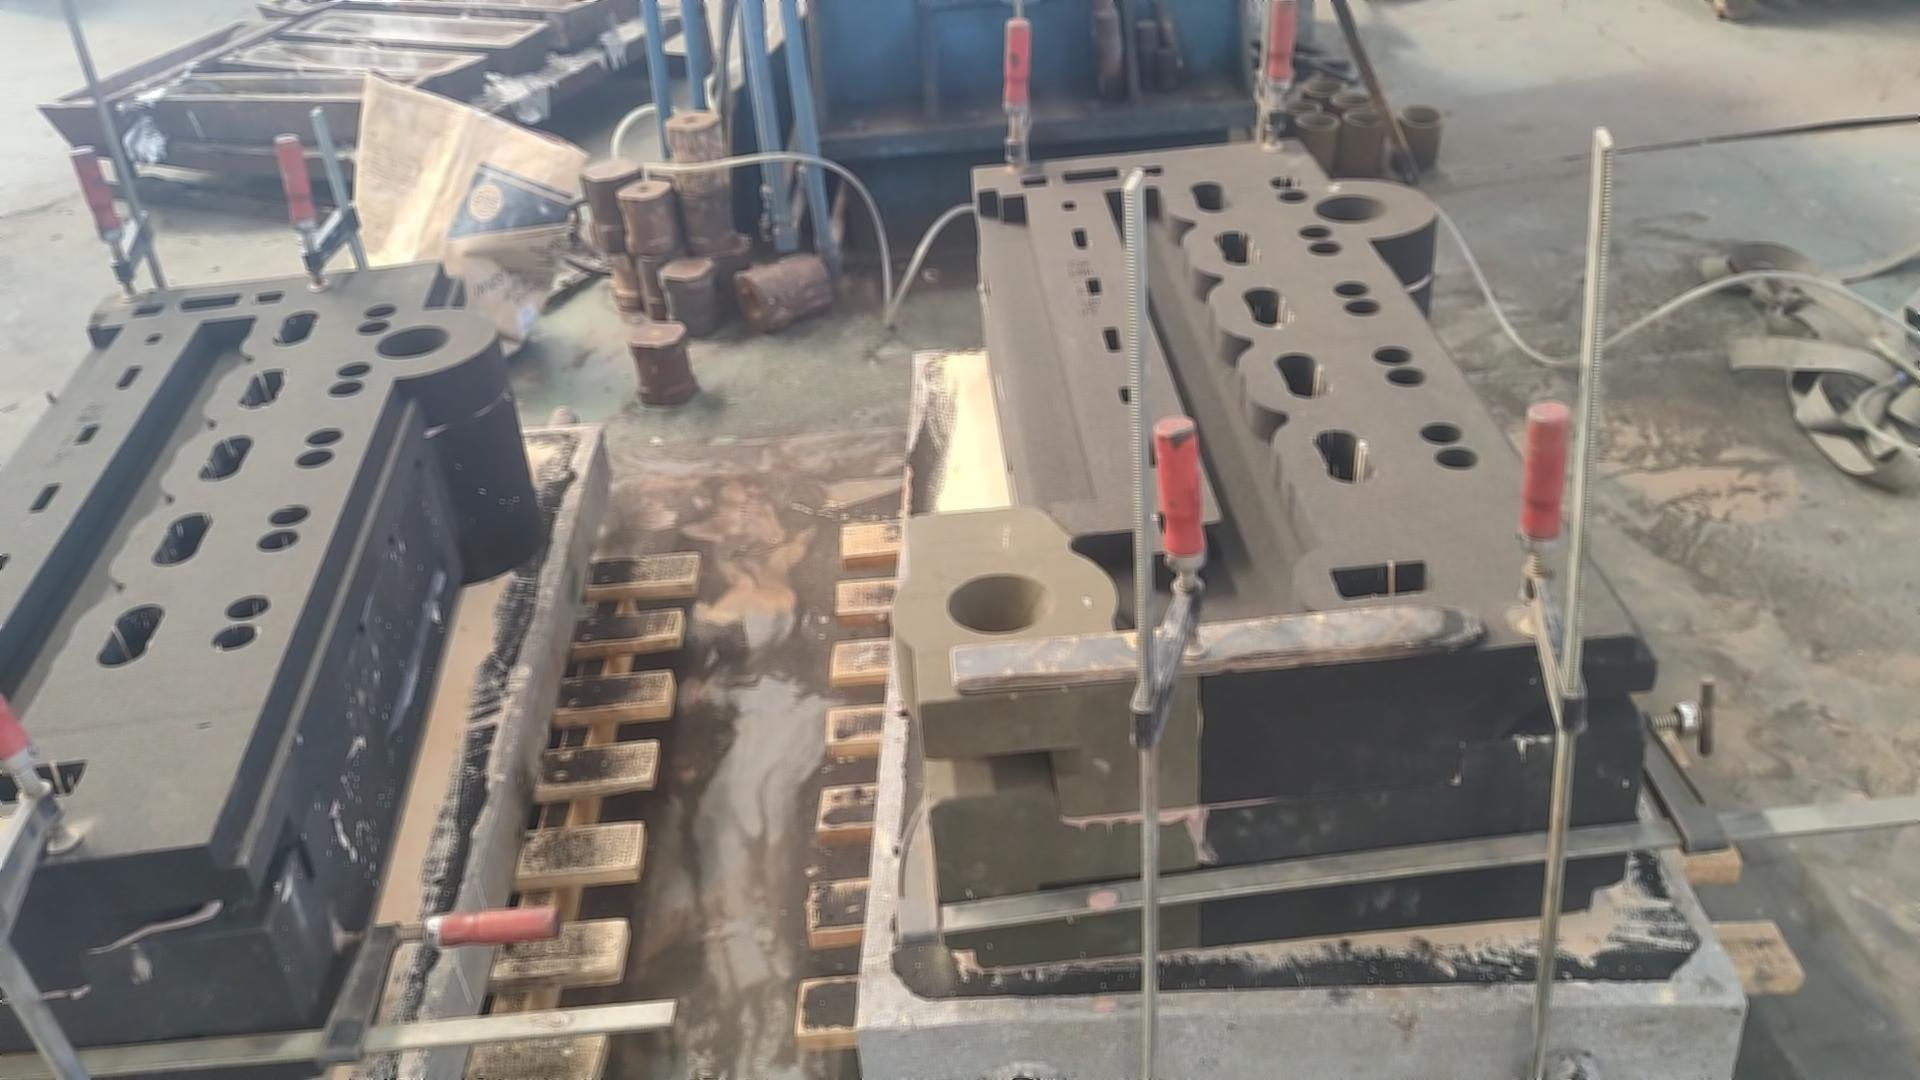pouring hole: (945, 574, 1048, 636), (375, 326, 450, 357), (1313, 195, 1386, 222), (1398, 104, 1443, 123), (1295, 113, 1337, 127), (1345, 109, 1385, 123), (1304, 80, 1340, 94), (1335, 92, 1369, 105), (1283, 102, 1319, 113)
